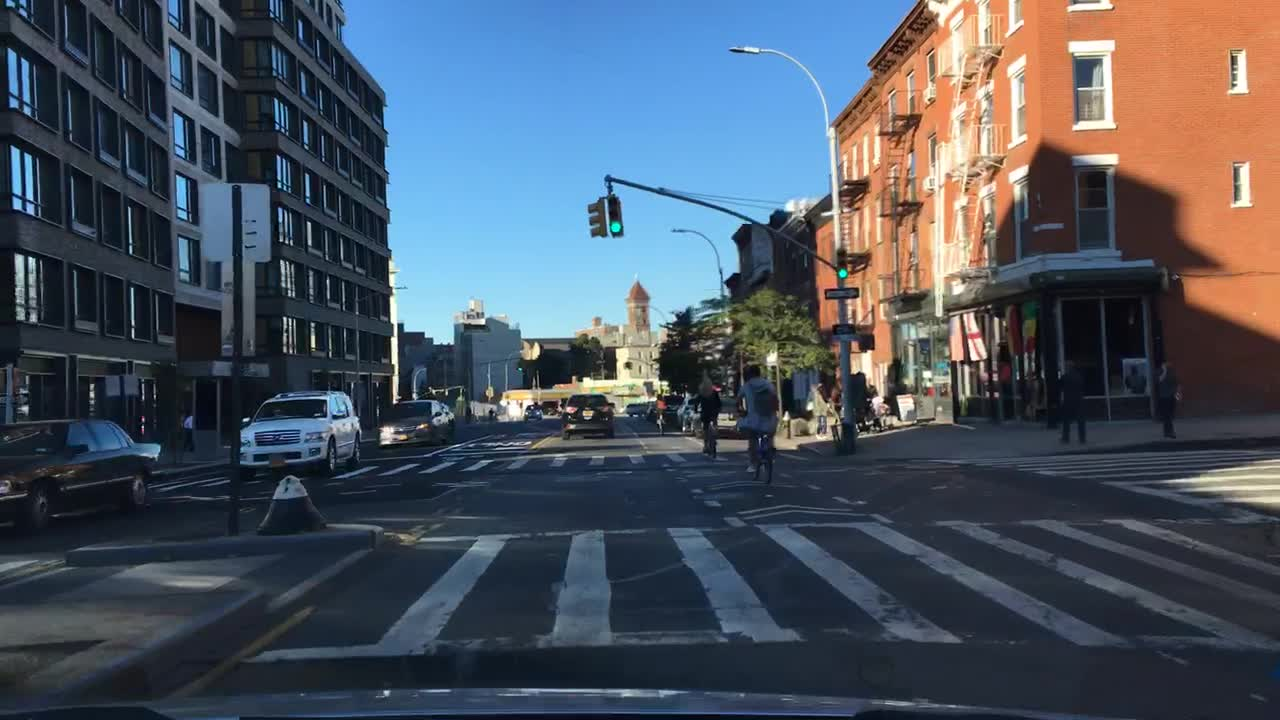bike: (732, 398, 779, 486), (692, 398, 722, 461), (646, 403, 670, 434)
car: (0, 418, 167, 536), (239, 390, 363, 484), (376, 396, 457, 454), (558, 393, 614, 442), (688, 395, 739, 435), (675, 393, 693, 428), (663, 393, 678, 422), (622, 401, 644, 417), (523, 405, 543, 422)
person: (1051, 356, 1086, 445), (1151, 351, 1184, 442), (995, 354, 1017, 423), (810, 380, 830, 435), (179, 407, 199, 455), (1120, 362, 1150, 394), (828, 381, 842, 422)
rider: (730, 361, 778, 474), (690, 371, 722, 450), (651, 390, 668, 430)
traffic light: (584, 194, 604, 236), (604, 192, 621, 236), (833, 246, 852, 277), (855, 331, 876, 351), (514, 358, 523, 374)
traffic sign: (199, 184, 271, 263), (828, 320, 854, 344), (823, 285, 859, 302), (0, 391, 30, 408)
